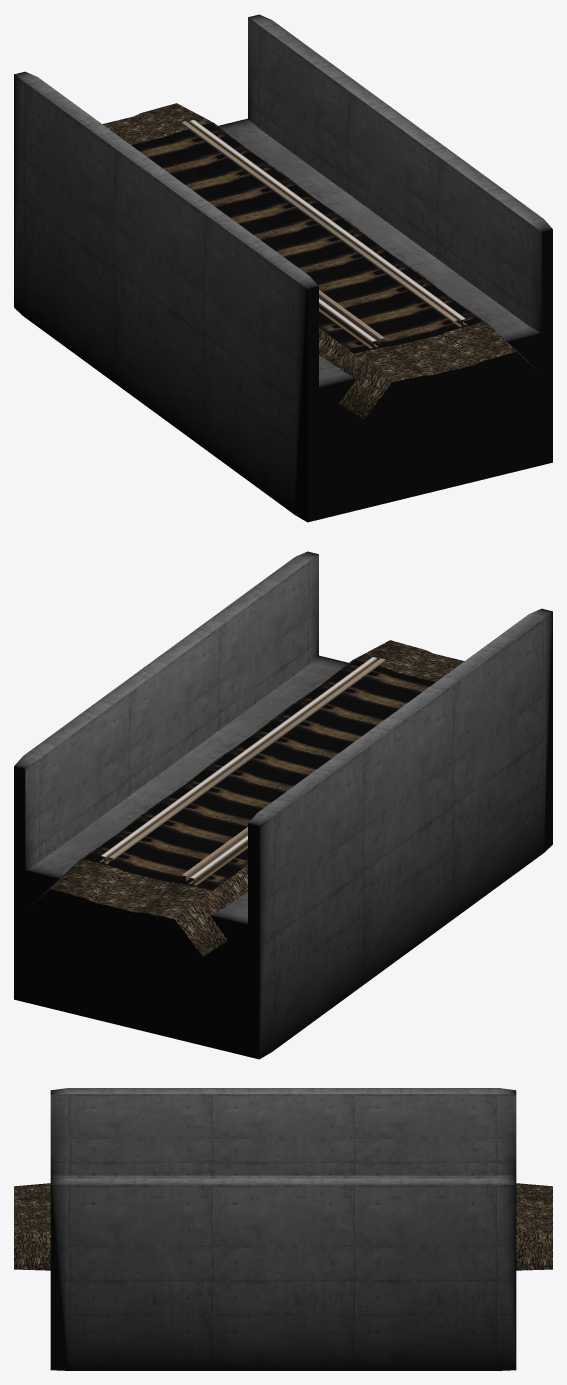
The model's file is KIN_1RAIL_25_WALL.glb.
3 views of the same model, one above another, from view 1: azimuth 30°, elevation 25°; view 2: azimuth 150°, elevation 25°; view 3: azimuth 270°, elevation 25° (orthographic). The views are drawn at different scales.
Parts seen in each view (by area): view 1: obj9, R000_RG_L6; view 2: obj9, R000_RG_L6; view 3: obj9.
Boxes of the visible parts, x1,y1,x2,y2 form: obj9: (14,14,552,522); R000_RG_L6: (182,121,457,322); obj9: (14,551,552,1059); R000_RG_L6: (109,658,384,862); obj9: (14,1088,552,1370).
Bounding box in the file's own units: 13.23 × 11.93 × 31.25.
7 materials, 6 textured.
